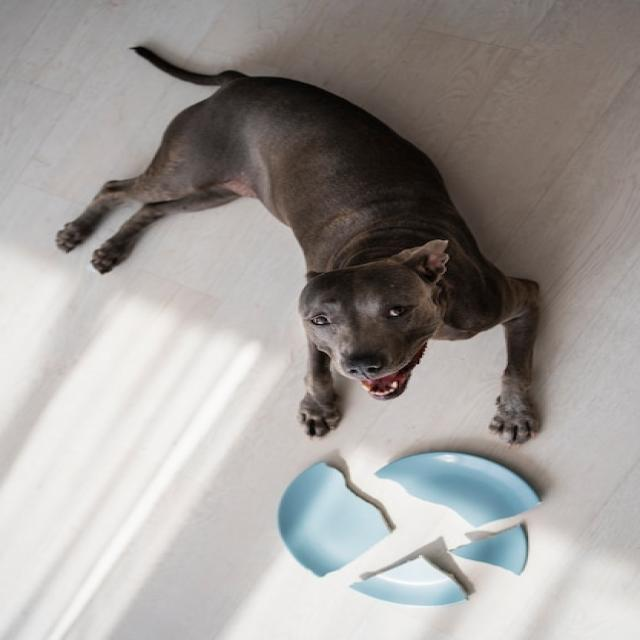Dog: (57, 44, 545, 444)
